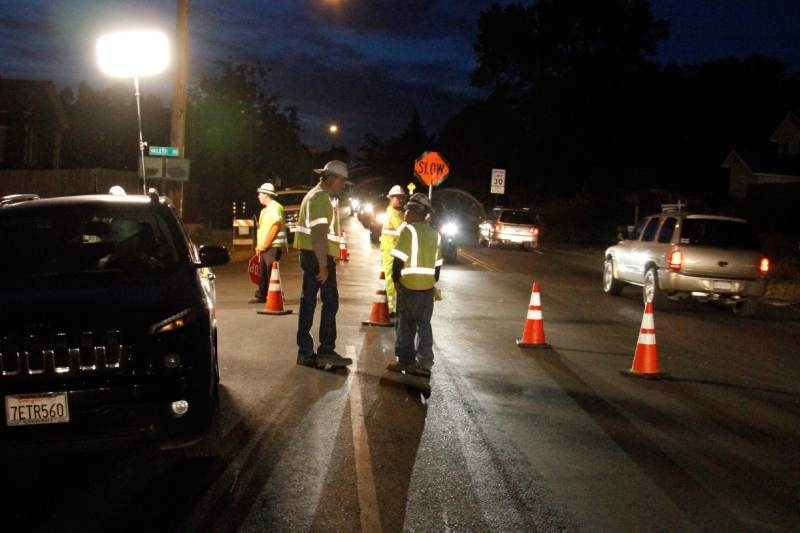white: (312, 158, 349, 196), (404, 191, 432, 225), (256, 179, 278, 205), (387, 182, 406, 209)
